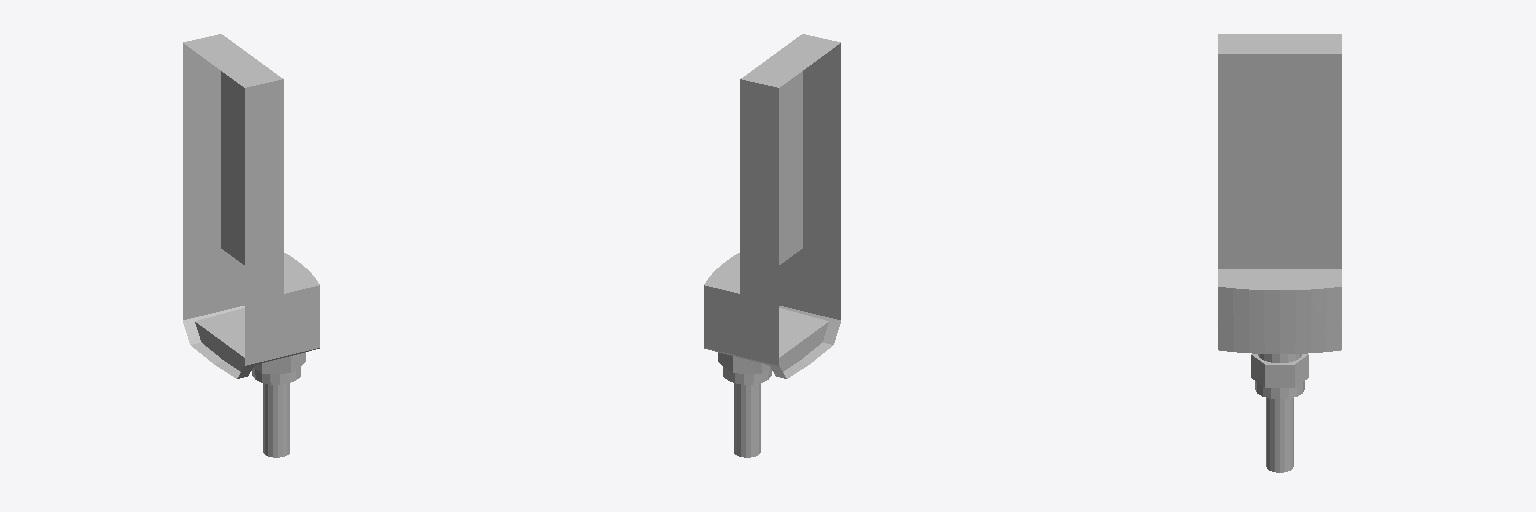
The model's file is a2_cut_0__7_1.obj.
3 views of the same model, side by side, from view 1: azimuth 30°, elevation 25°; view 2: azimuth 150°, elevation 25°; view 3: azimuth 270°, elevation 25° (orthographic).
Parts seen in each view (by area): view 1: 0; view 2: 0; view 3: 0.
Boxes of the visible parts, x1,y1,x2,y2 form: 0: [183, 34, 319, 457]; 0: [704, 34, 840, 457]; 0: [1218, 34, 1341, 472].
Bounding box in the file's own units: 45.74 × 207 × 58.